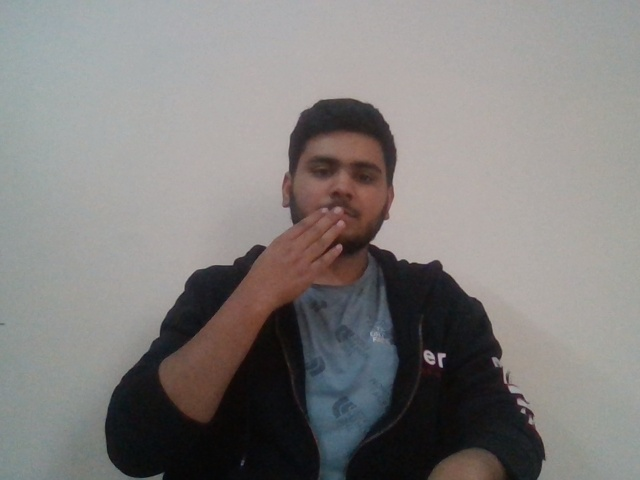Thanks: (265, 200, 379, 295)
